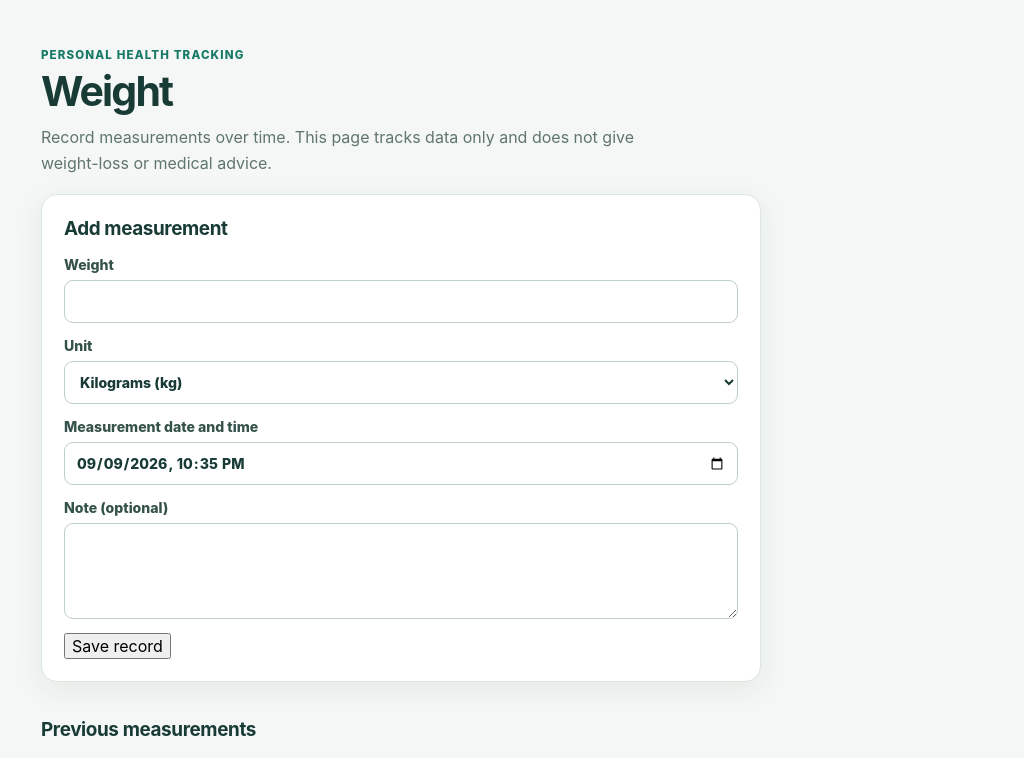
Scenario: WeightPage › shows client-side validation for an invalid weight
In the number field labelled "Weight": coordinates (401, 302) [64,280,738,323], type "0"
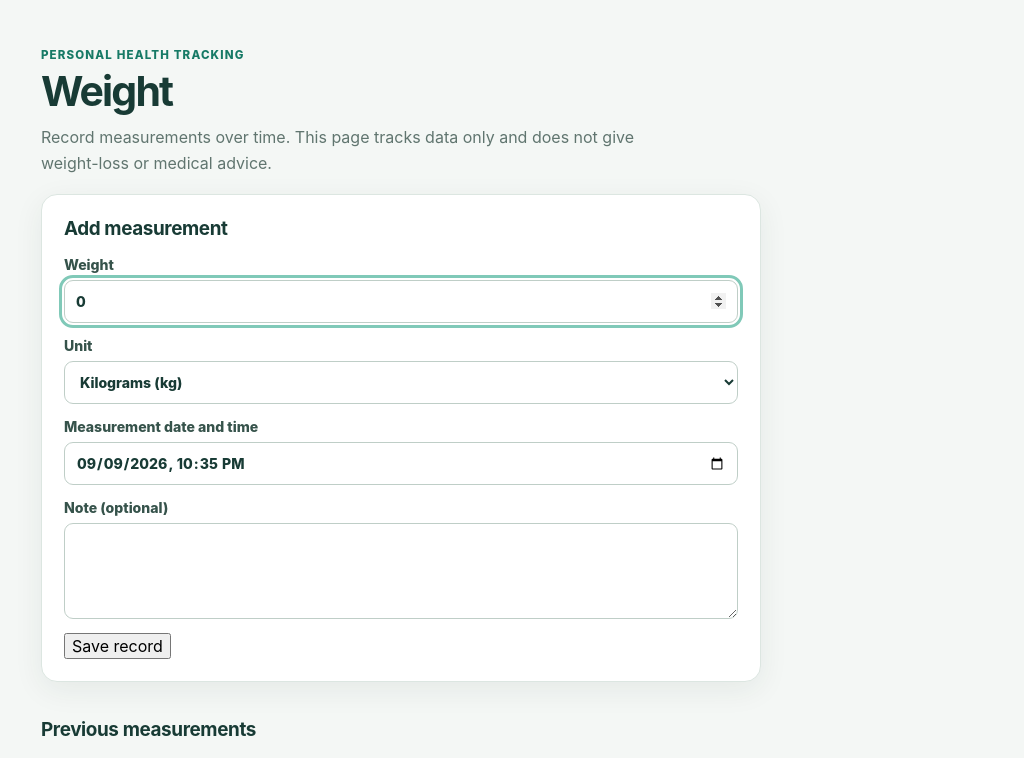
Click the button "Save record": coordinates (117, 646) [64,633,171,659]
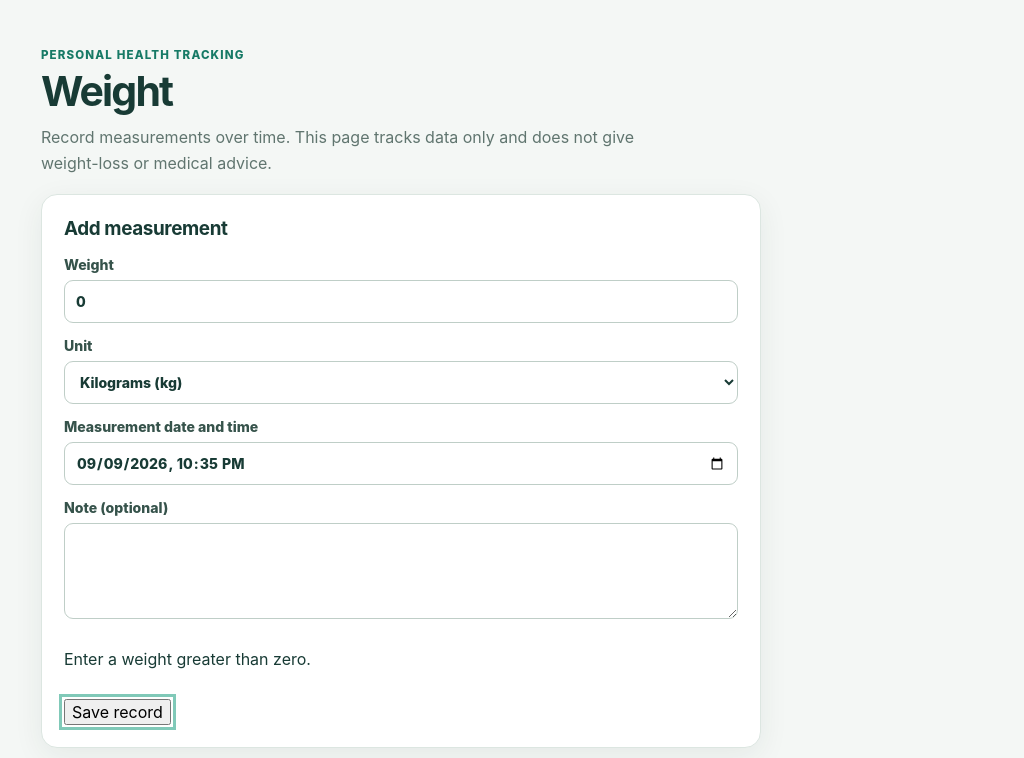
Check: the message reads "Enter a weight greater than zero.", box [64,649,311,669]
